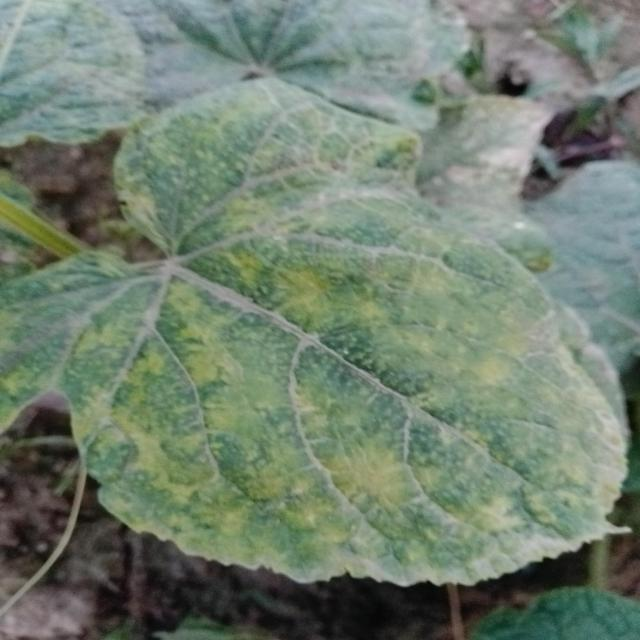cucumber_downy: (0, 100, 636, 569)
